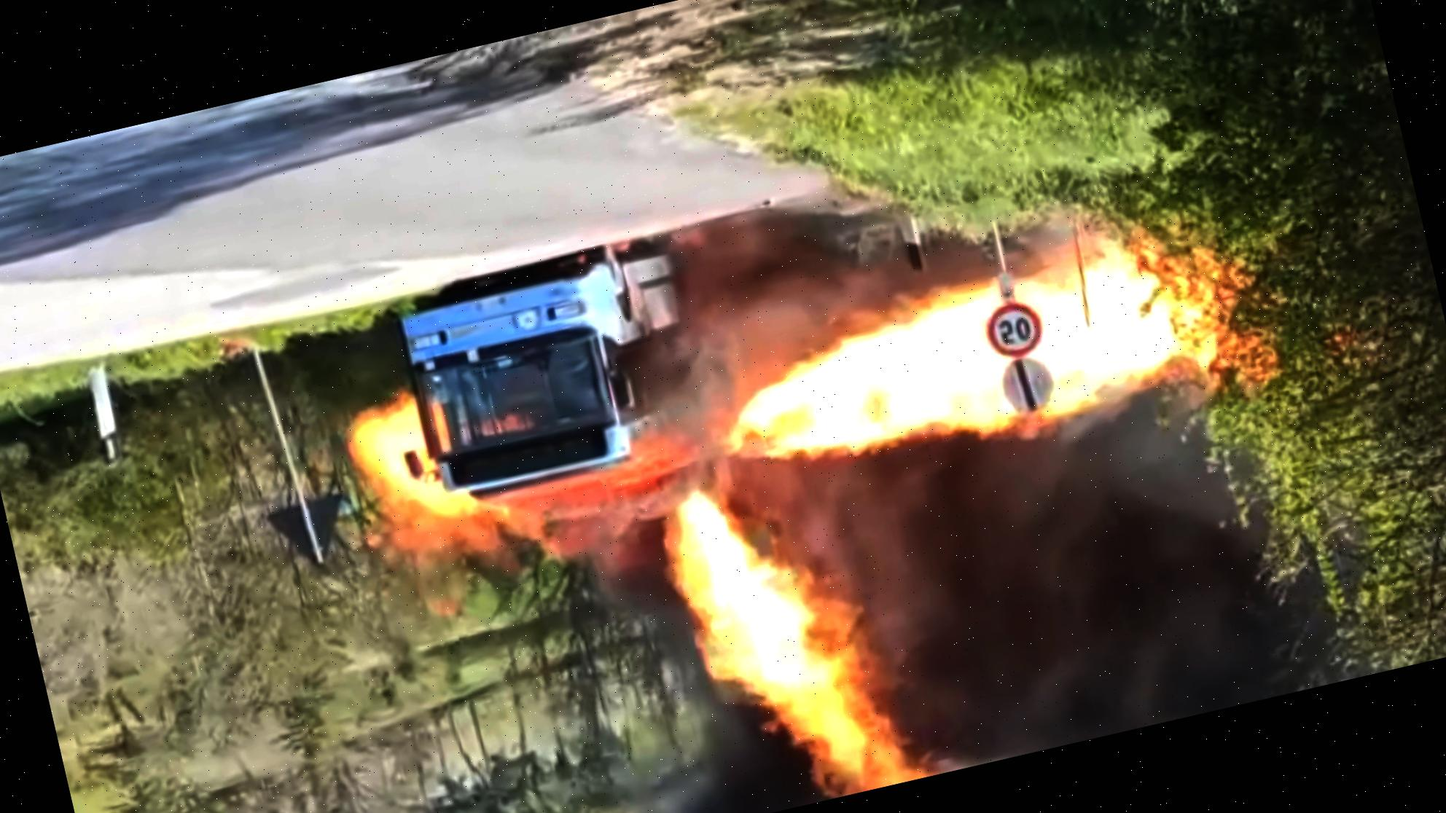fire: (707, 241, 1221, 480), (729, 479, 888, 806), (312, 384, 478, 551)
smoke: (845, 373, 1316, 772), (475, 439, 712, 607), (561, 700, 807, 813)
